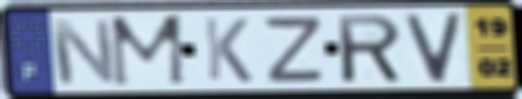K: (200, 16, 255, 85)
M: (107, 12, 191, 89)
N: (47, 17, 121, 87)
R: (333, 12, 406, 85)
V: (401, 10, 466, 85)
Z: (263, 14, 327, 85)
